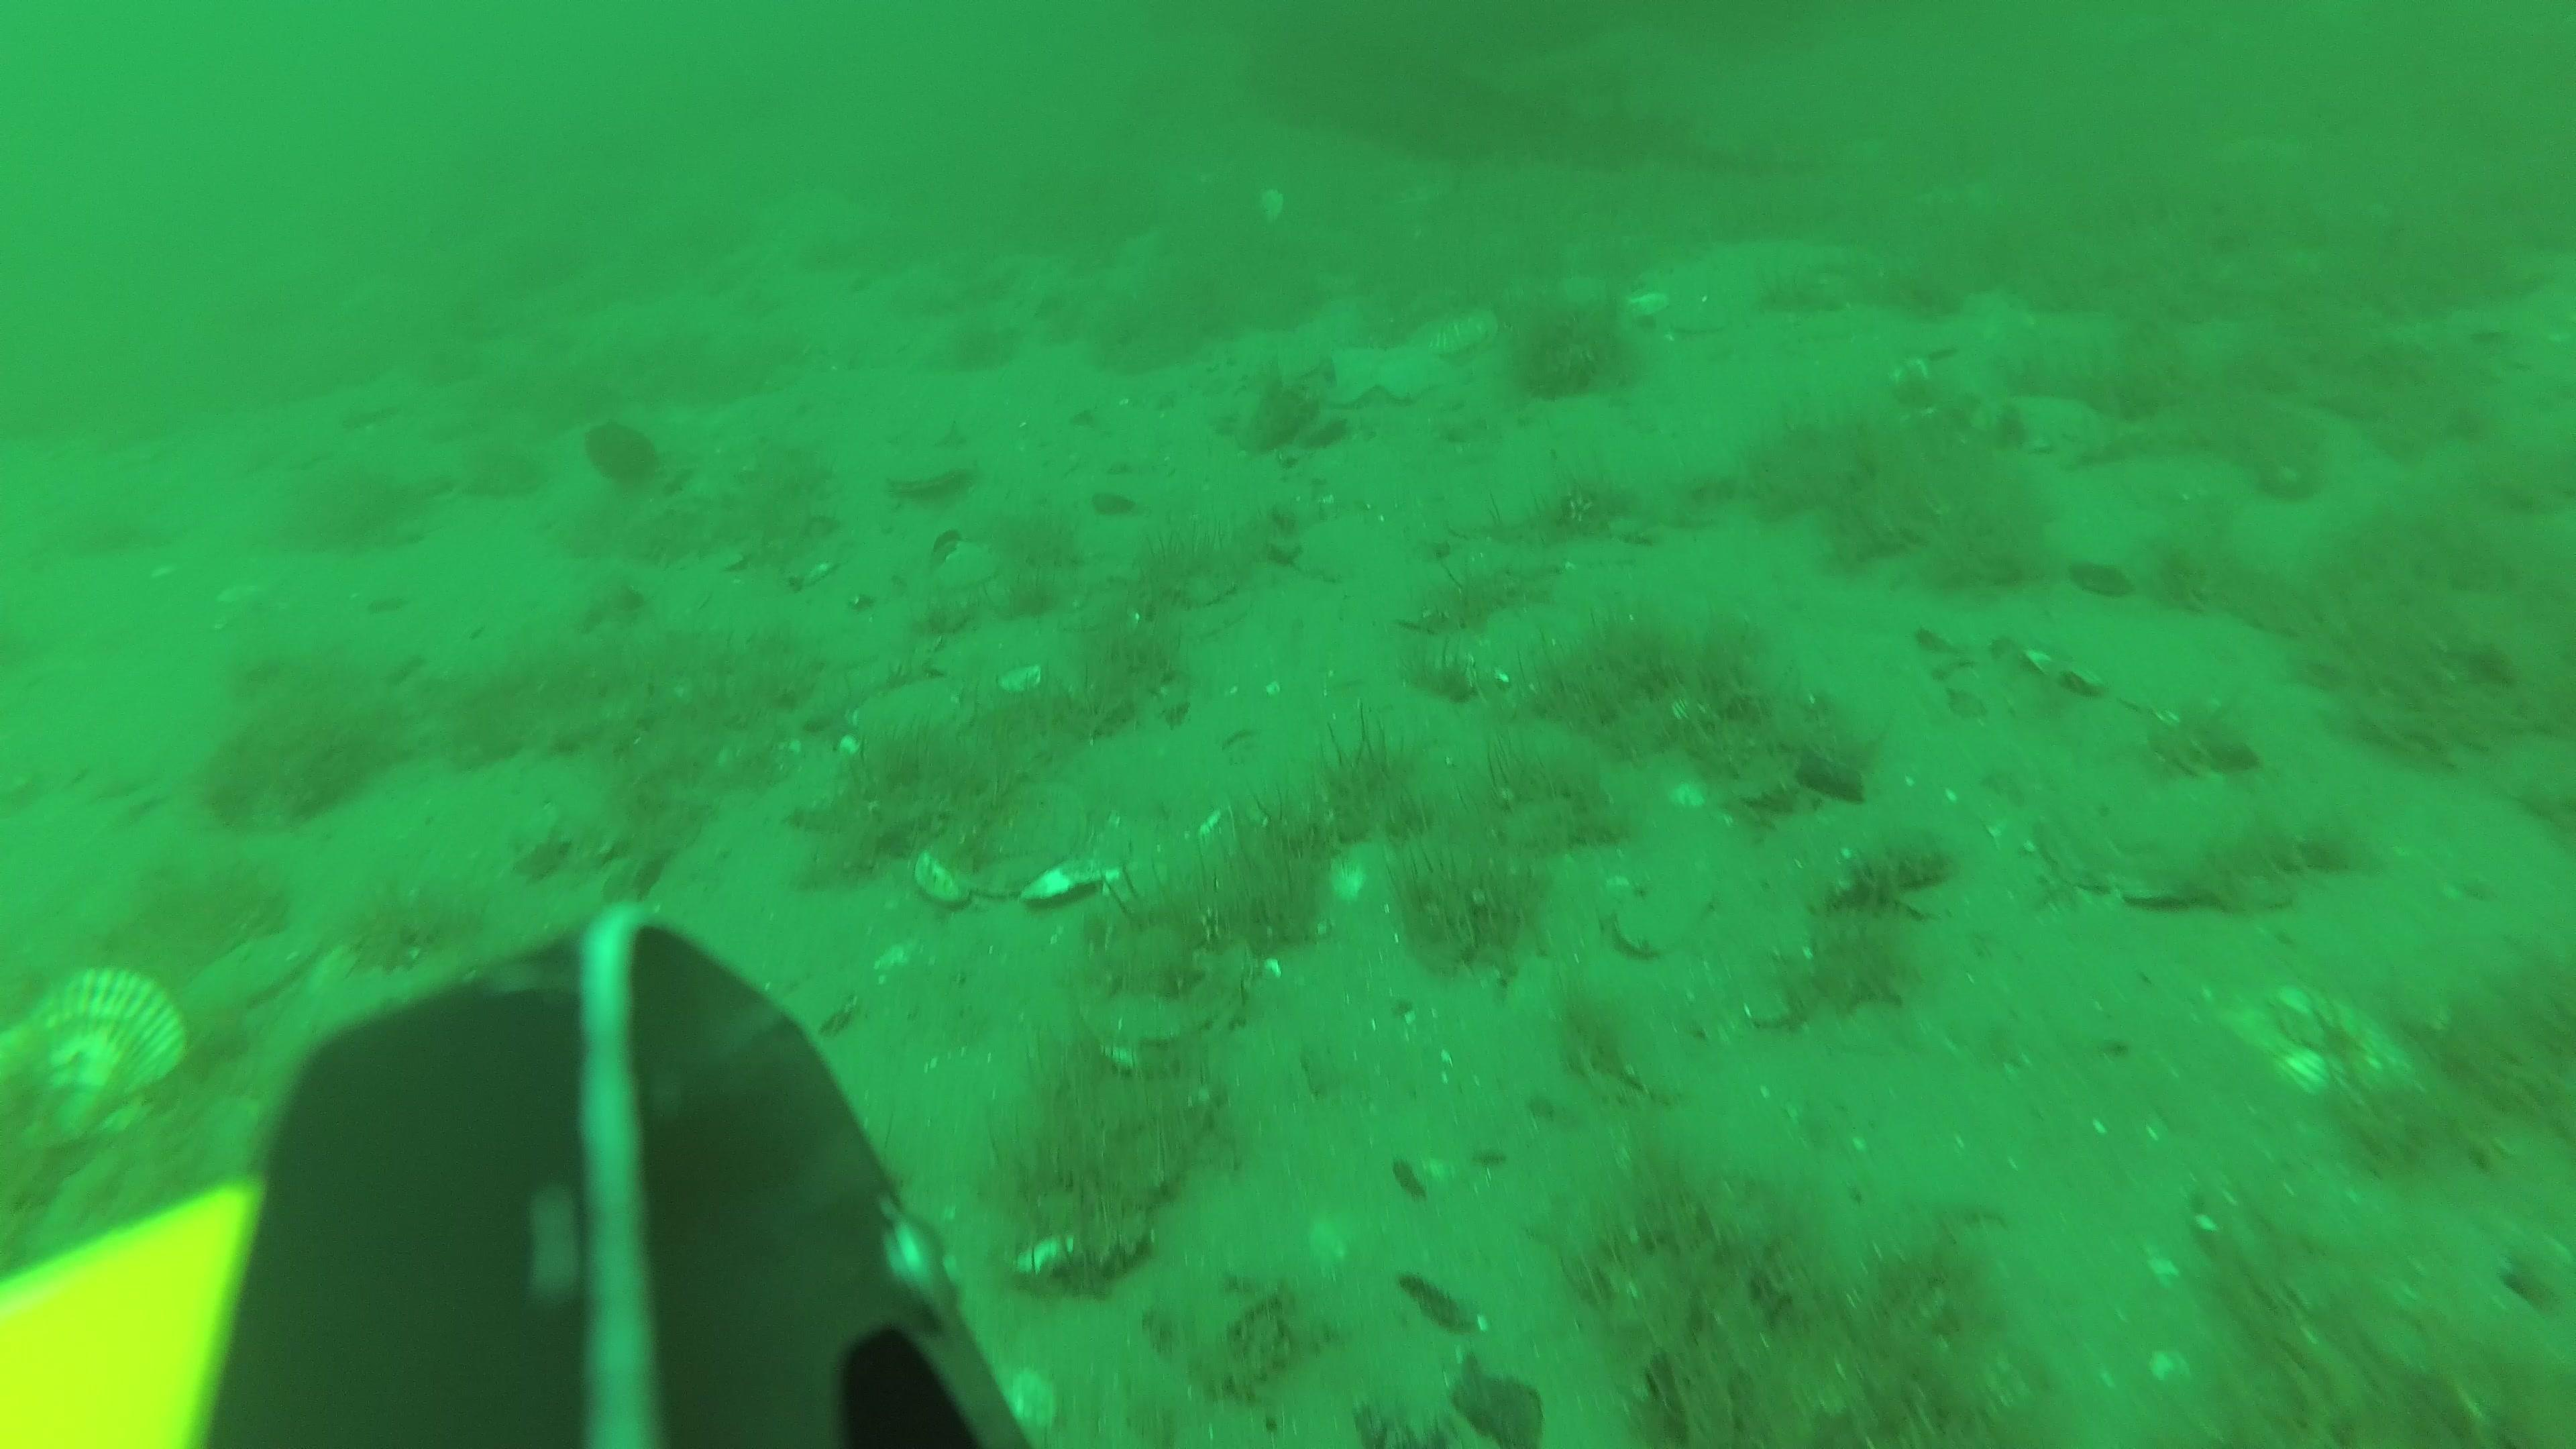scallop: (9, 970, 189, 1129), (916, 786, 1085, 901), (853, 672, 975, 752), (1969, 391, 2093, 455), (886, 442, 977, 495), (1442, 310, 1502, 352), (1261, 184, 1293, 226)
starfish: (1336, 329, 1453, 409)
